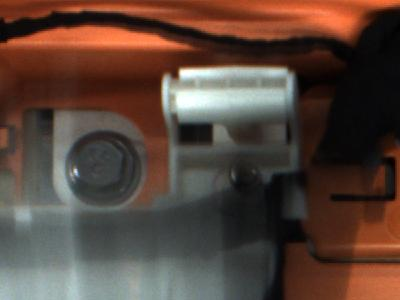nut_b: (63, 124, 138, 200)
